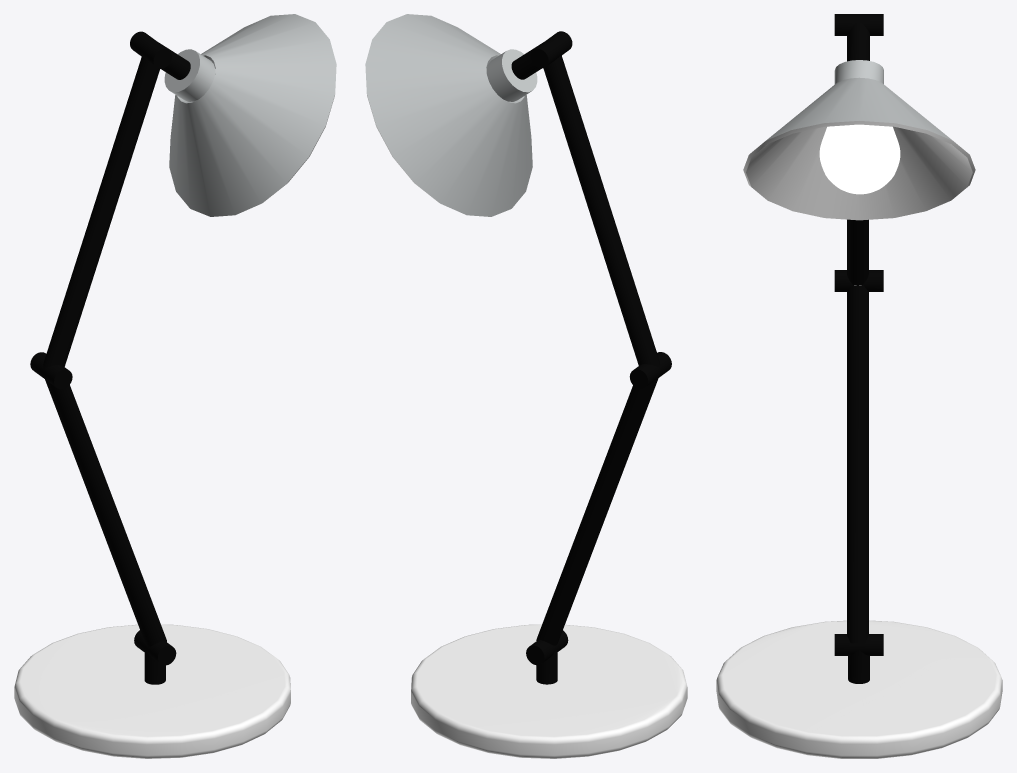
The model's file is lamp.glb.
The picture shows the model from 3 angles, left to right: view 1: azimuth 30°, elevation 25°; view 2: azimuth 150°, elevation 25°; view 3: azimuth 270°, elevation 25°; orthographic projection. The views are drawn at different scales.
Visible parts, largest first — view 1: lamp; view 2: lamp; view 3: lamp.
Boxes of the visible parts, x1,y1,x2,y2 form: lamp: [14, 14, 336, 758]; lamp: [365, 14, 687, 758]; lamp: [716, 14, 1002, 758].
Size of the model in its own units: 8.68 by 19.43 by 7.36.
Materials: 1 (1 with a texture image).
